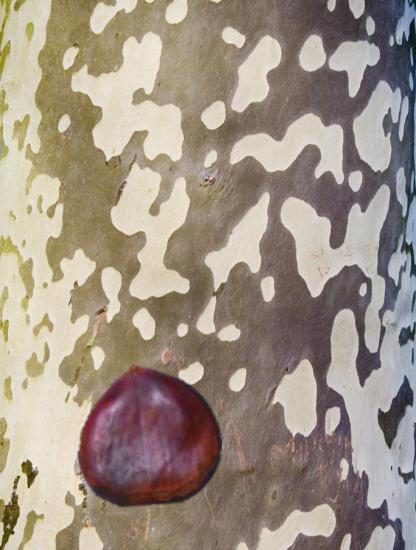Chestnut: (75, 361, 223, 509)
